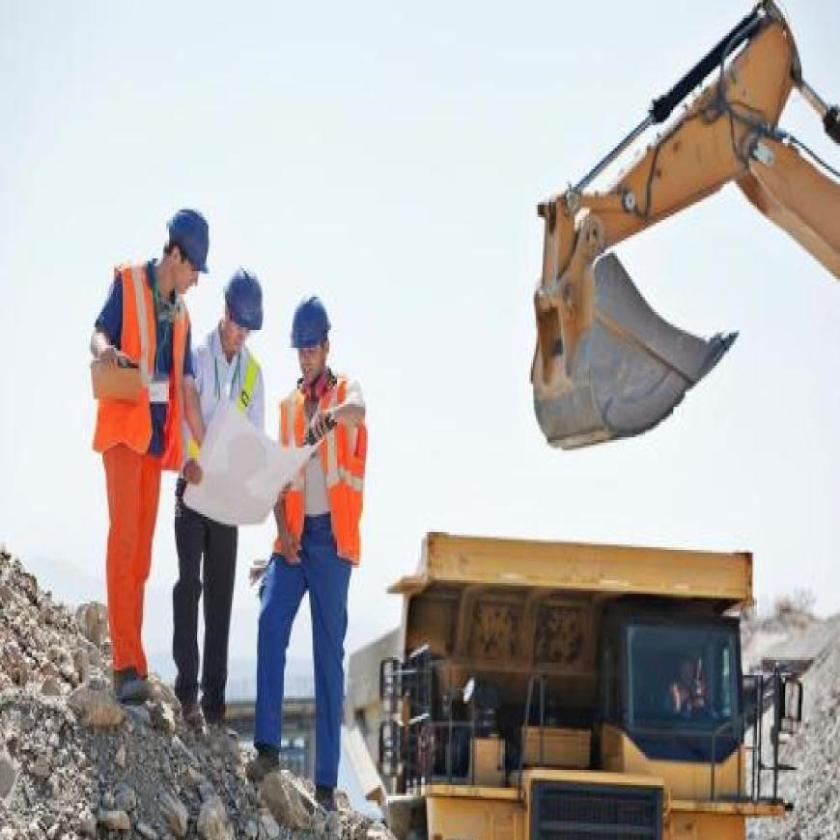Con_casco: (220, 261, 270, 370), (159, 204, 212, 305), (290, 292, 334, 388)
